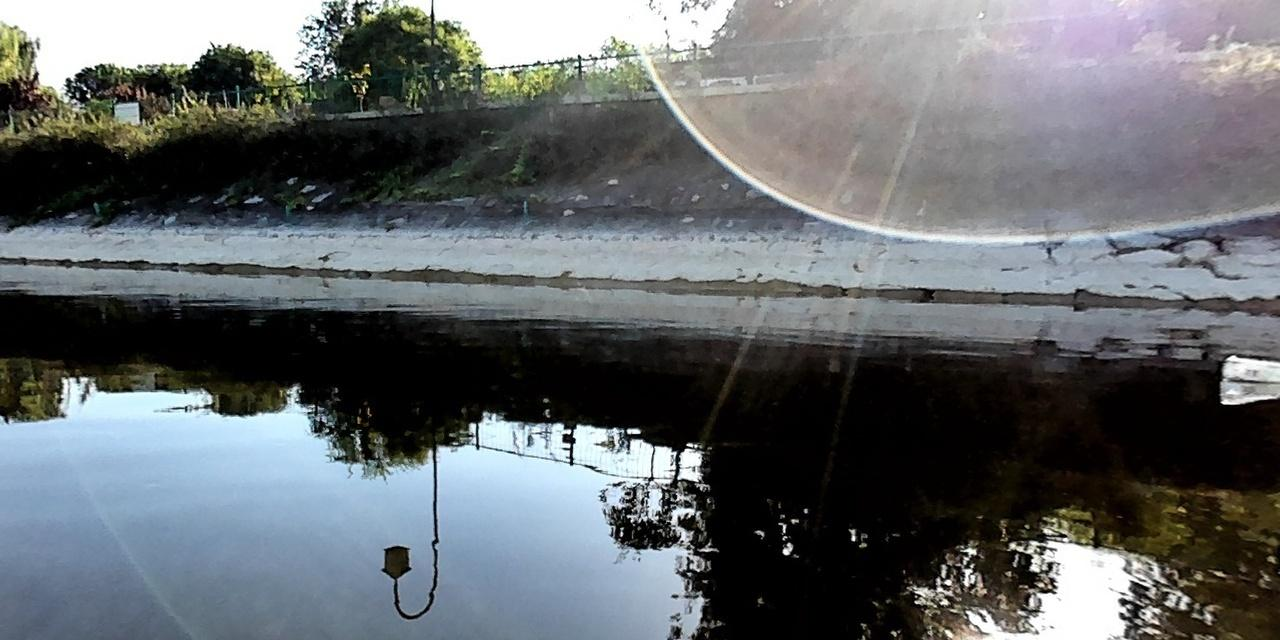bottle: (1217, 352, 1279, 384)
